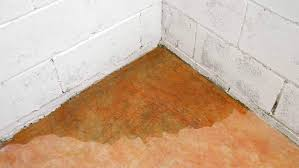Wet-floor: (100, 78, 225, 137), (157, 47, 241, 127), (19, 107, 129, 148)
